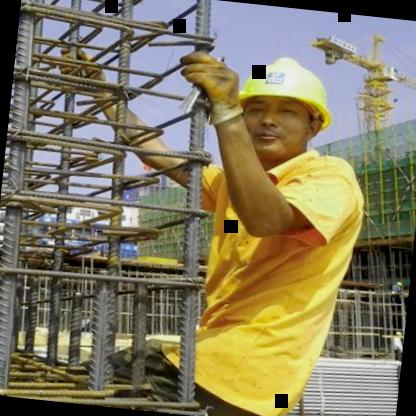helmet: (217, 37, 349, 176)
